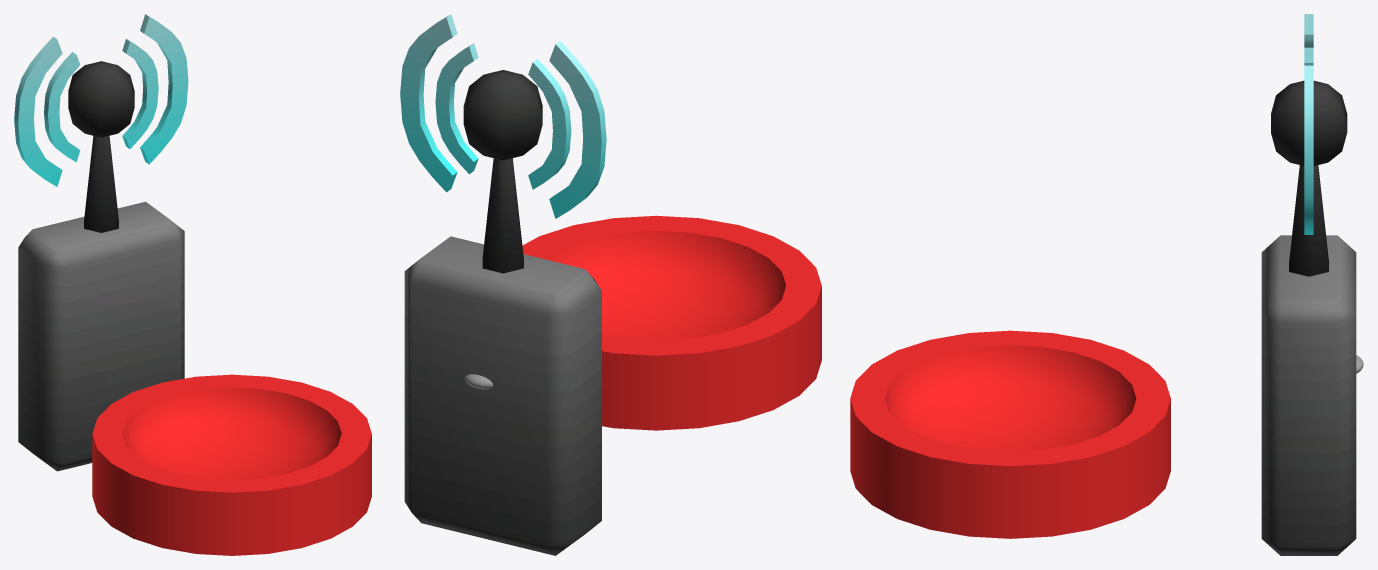
File: RemoteButton.obj
3 views of the same model, side by side, from view 1: azimuth 30°, elevation 25°; view 2: azimuth 150°, elevation 25°; view 3: azimuth 270°, elevation 25° (orthographic). The views are drawn at different scales.
Visible parts, largest first — view 1: Handle, Output; view 2: Handle, Output; view 3: Output, Handle.
Boxes of the visible parts, box(x1,y1,x2,y2) form: Handle: box(14, 14, 188, 471); Output: box(92, 374, 371, 555); Handle: box(400, 14, 606, 555); Output: box(522, 215, 821, 430); Output: box(850, 330, 1170, 538); Handle: box(1261, 14, 1356, 555).
Size of the model in its own units: 0.6 by 1 by 0.9607.
Materials: 3 (1 with a texture image).
